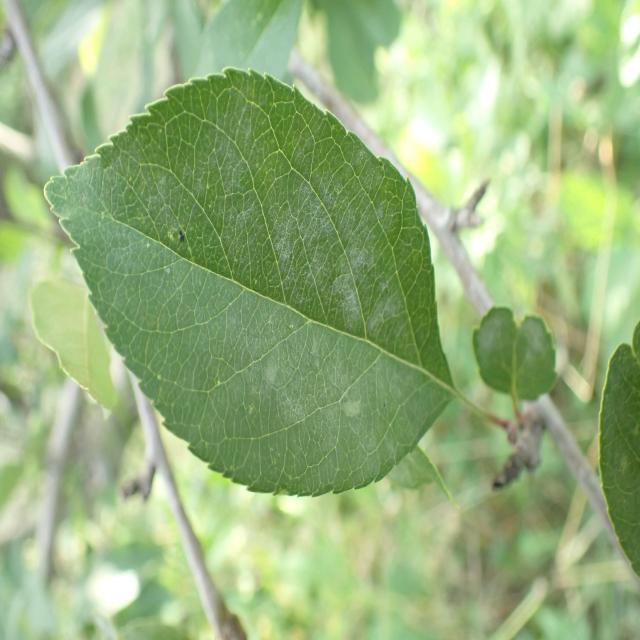Powdery_mildew: (69, 68, 434, 476), (479, 290, 568, 420)
